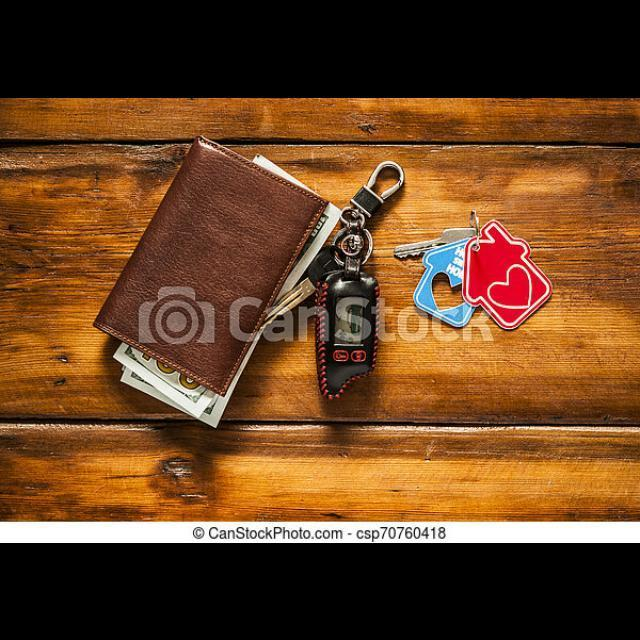wallet: (98, 113, 334, 444)
